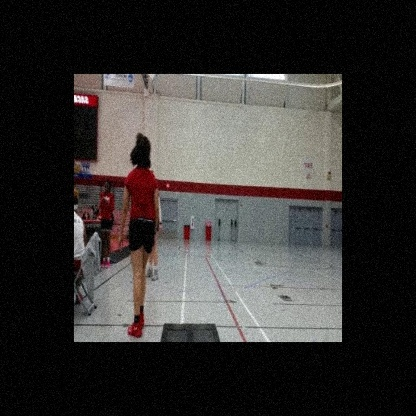lateral_flexion_left: (117, 131, 160, 342)
stance_width_narrow: (127, 164, 160, 342)
